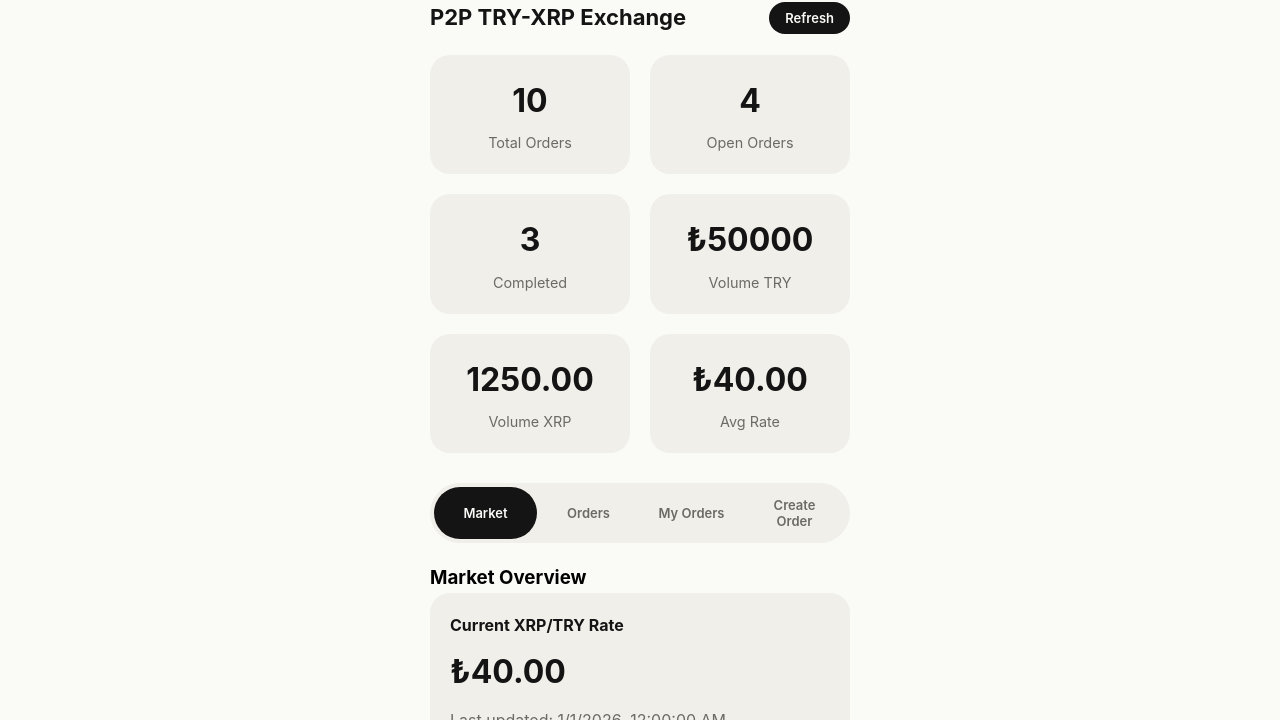
Test: P2PExchange › successful match shows success and opens matched order details
Click the button "My Orders" at (692,513), box [640,487,743,539]
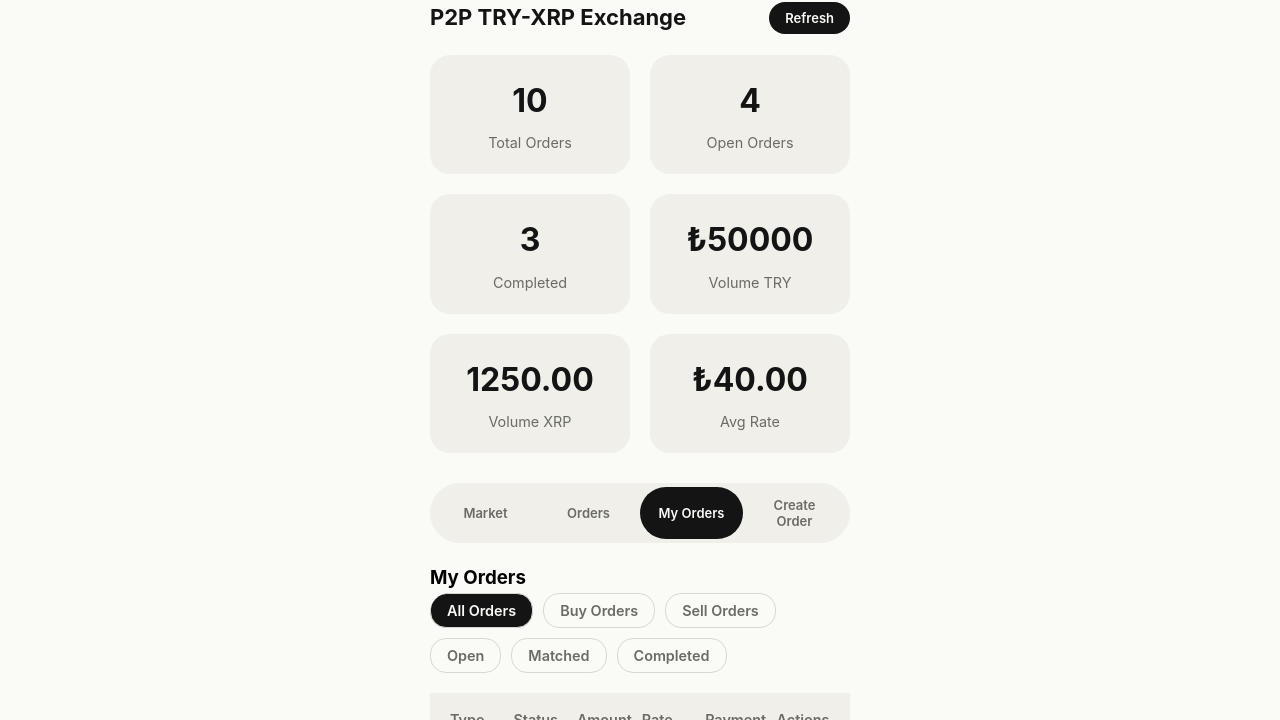
Click the button "Market" at (486,513), box [434,487,537,539]
(page scrolled)
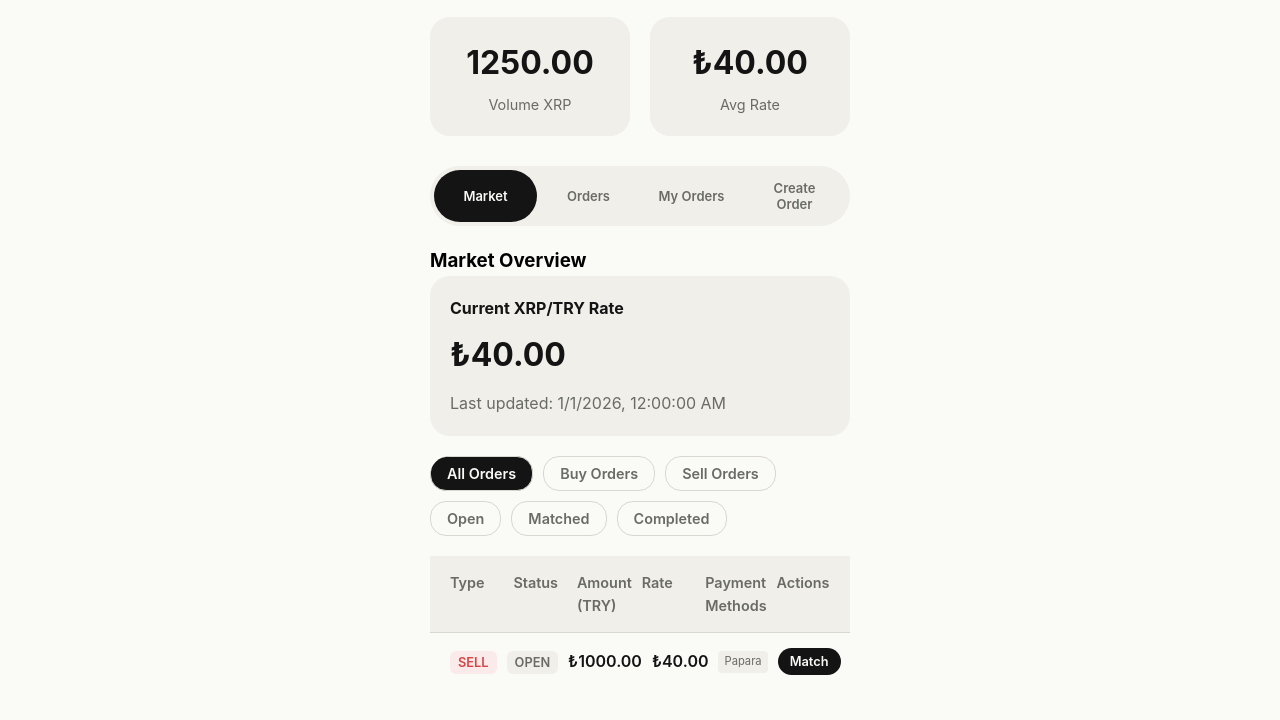
Now the text "₺1000.00" is shown, box [568,651,642,671]
Click the button "Match" at (809,662), box [778,648,840,675]
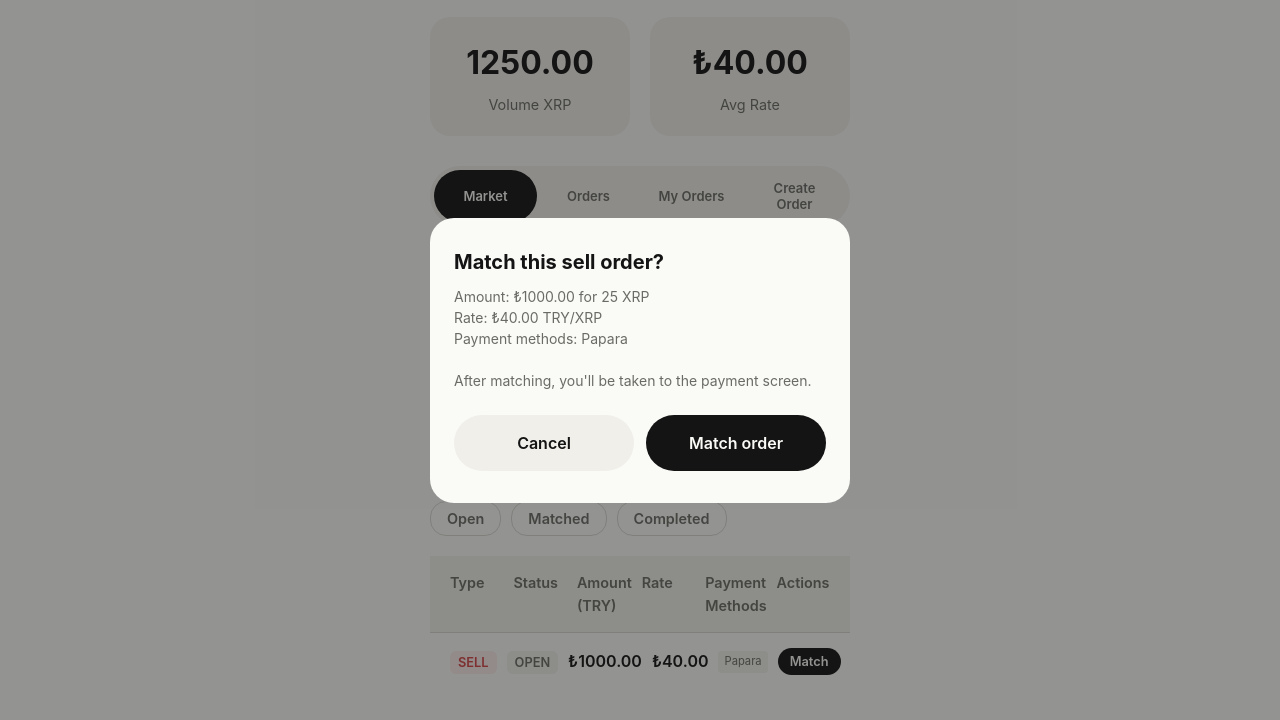
Now the button "Match order" is shown
Click the button "Match order" at (736,442), box [646,414,826,470]
(page scrolled)
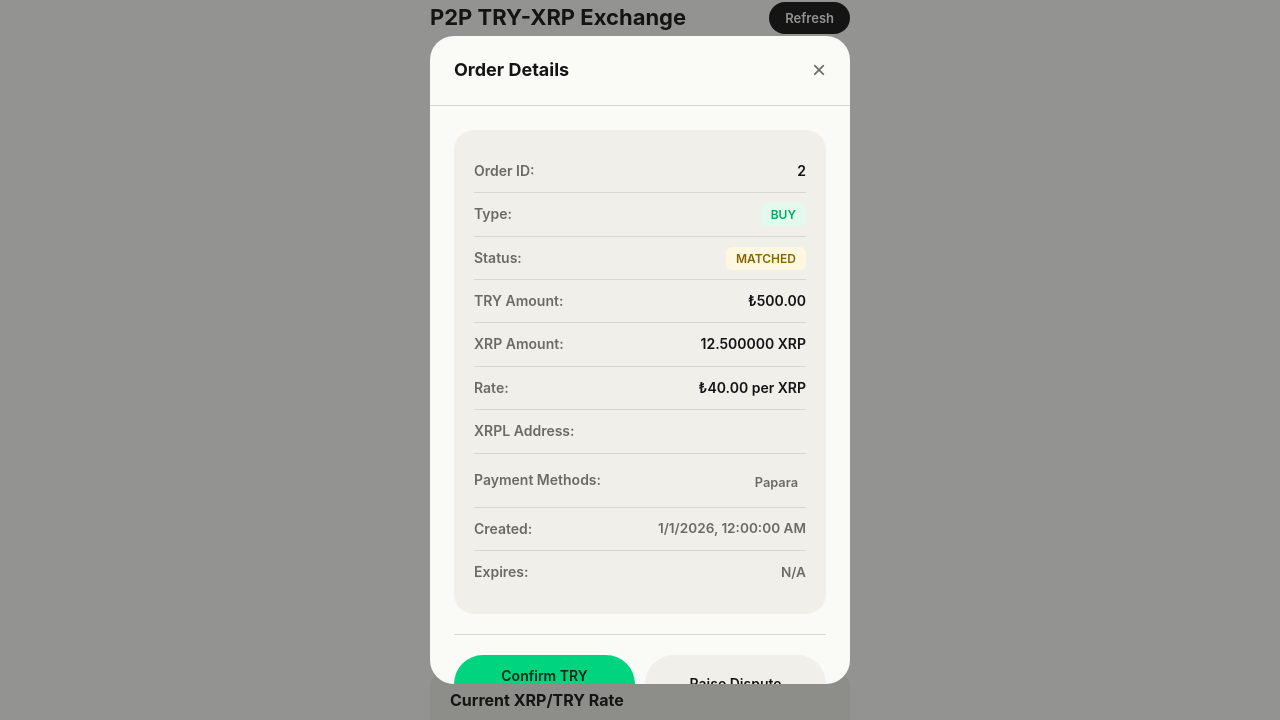
Now the text "Orders matched successfully!" is shown, box [430,55,850,111]
